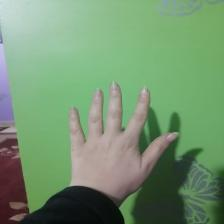five: (64, 80, 183, 192)
